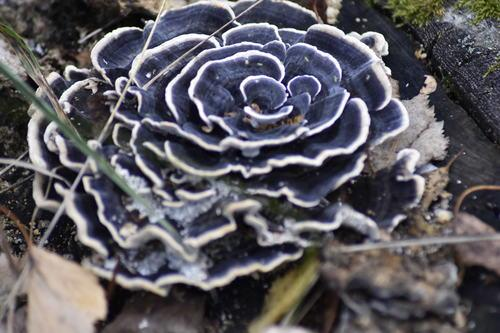poisonous_mushroom: (26, 0, 411, 295)
